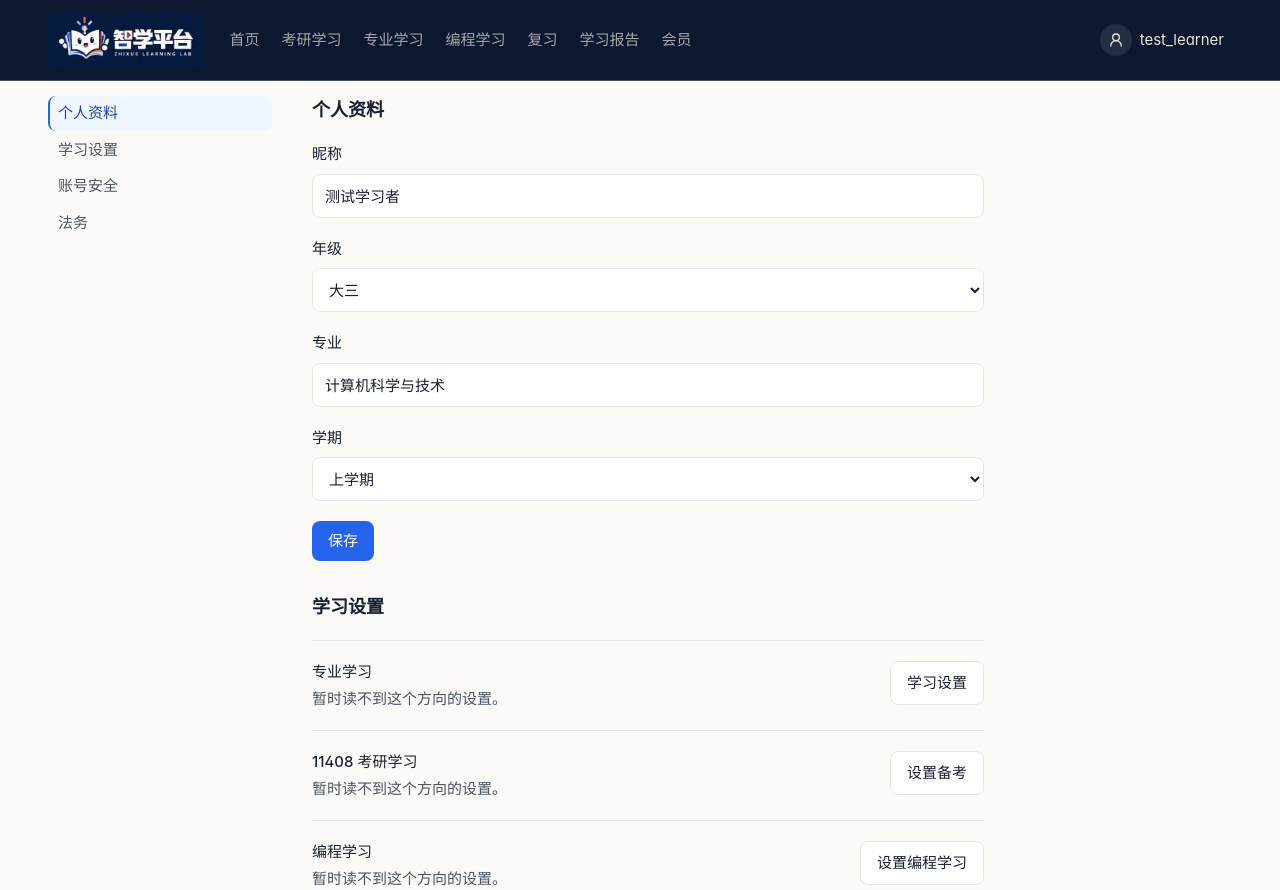
Test: profile section navigation › opens the existing legal page from the desktop navigation
The width and height of the screenshot is (1280, 890).
(page scrolled)
Expected: the field showing "测试学习者" is shown, [312, 174, 984, 218]
Click the link "法务" at (73, 222), box [58, 212, 88, 232]
(page scrolled)
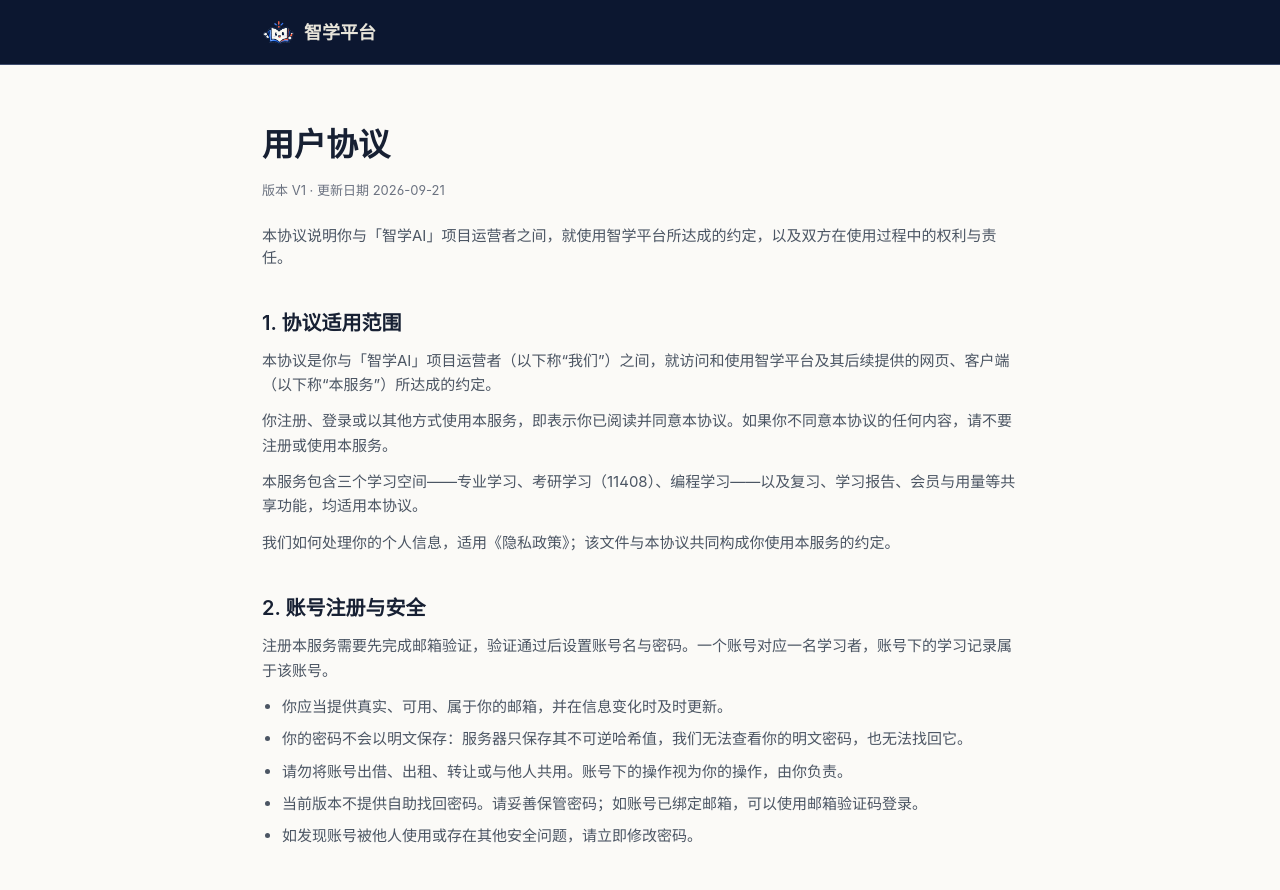
Expected: the heading "用户协议" is shown, [262, 125, 390, 164]
